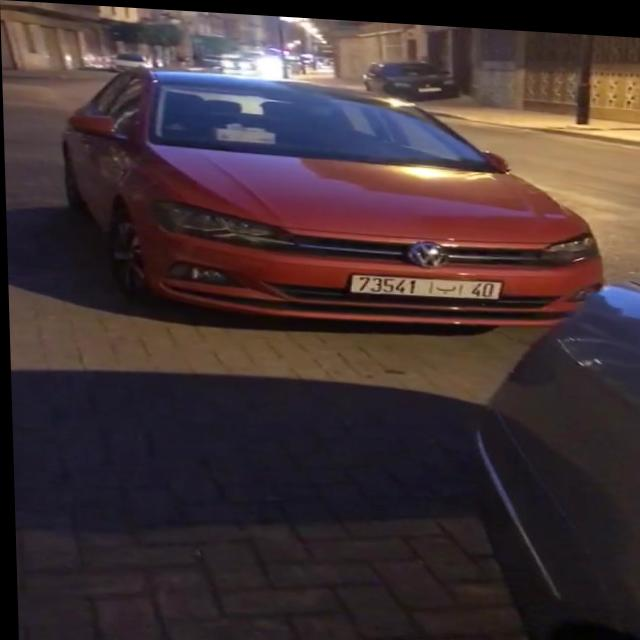License-Plate: (350, 272, 501, 294)
